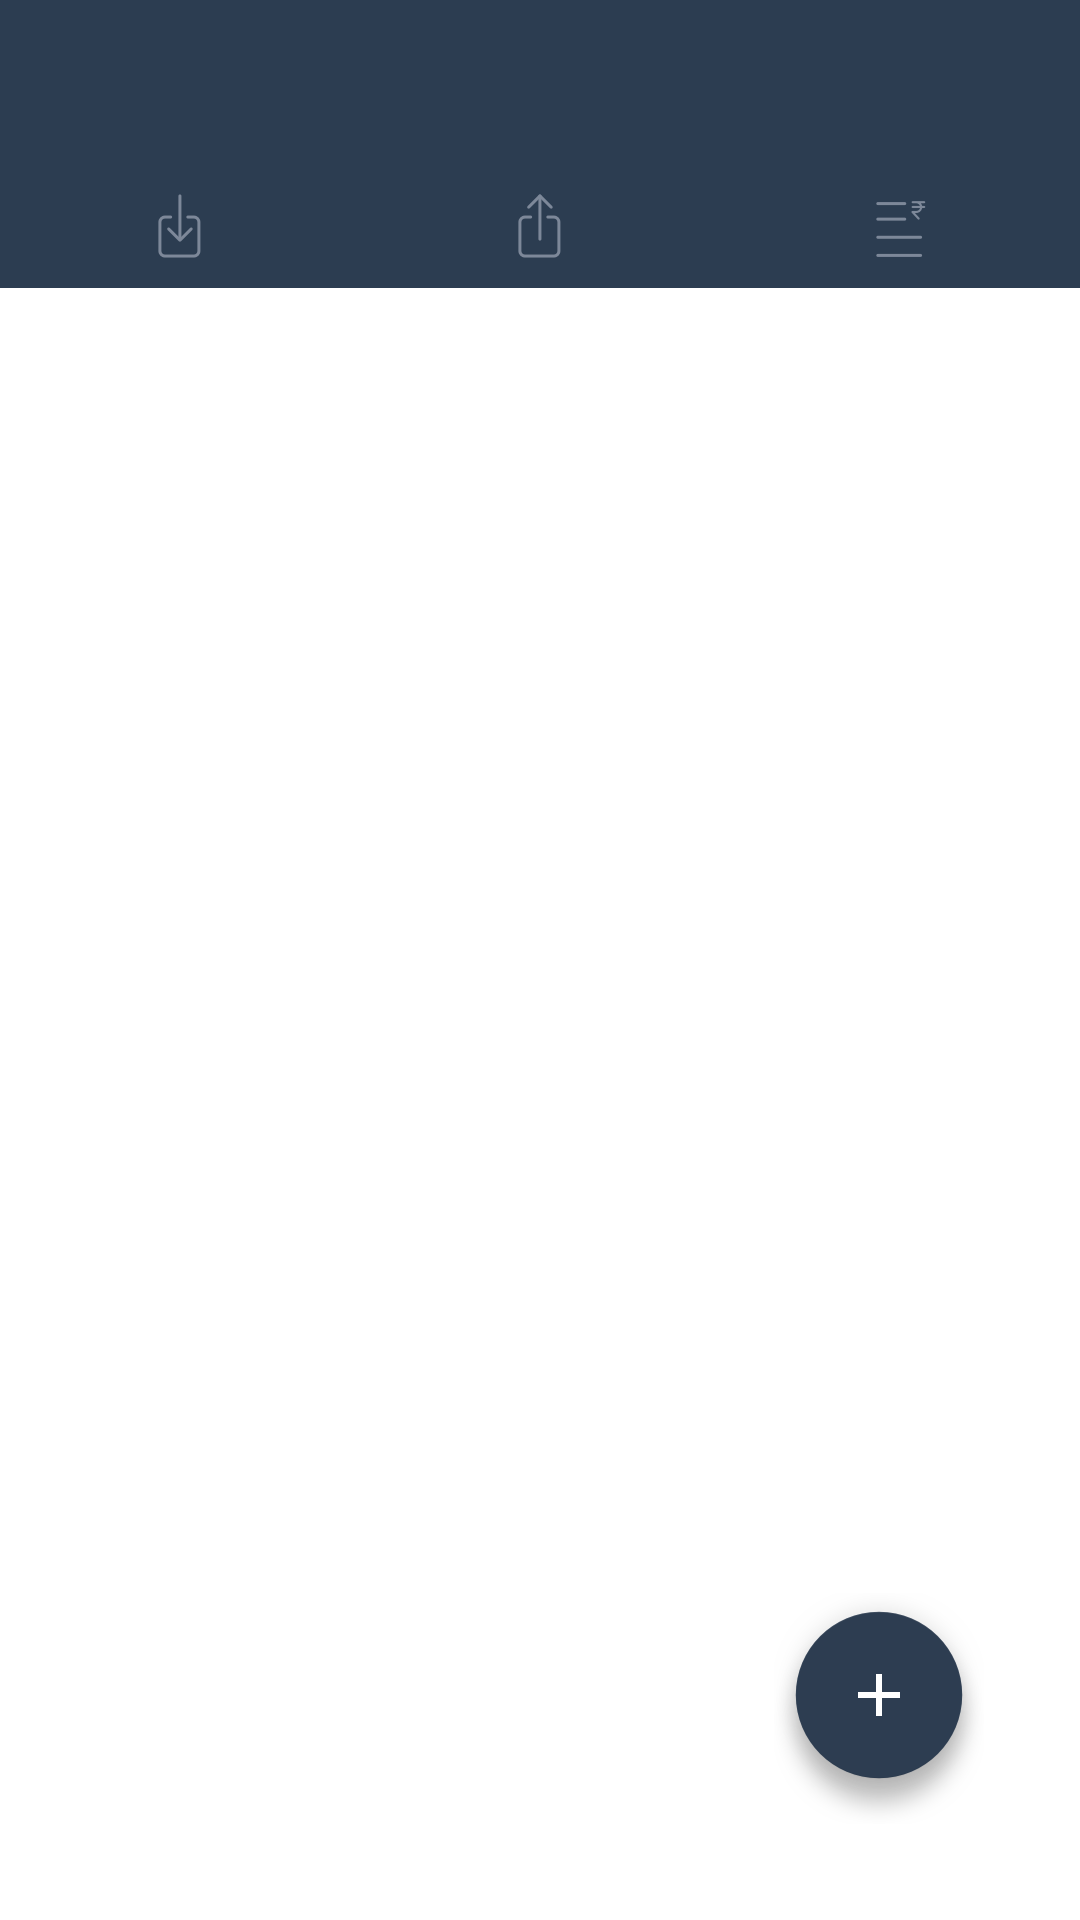

Screen size 1080 x 1920. Icon name, then its box in pixels as (x1, y1, x2, y2):
loan tab: (876, 201, 925, 257)
payable tab: (518, 194, 561, 258)
recievable tab: (158, 194, 201, 258)
